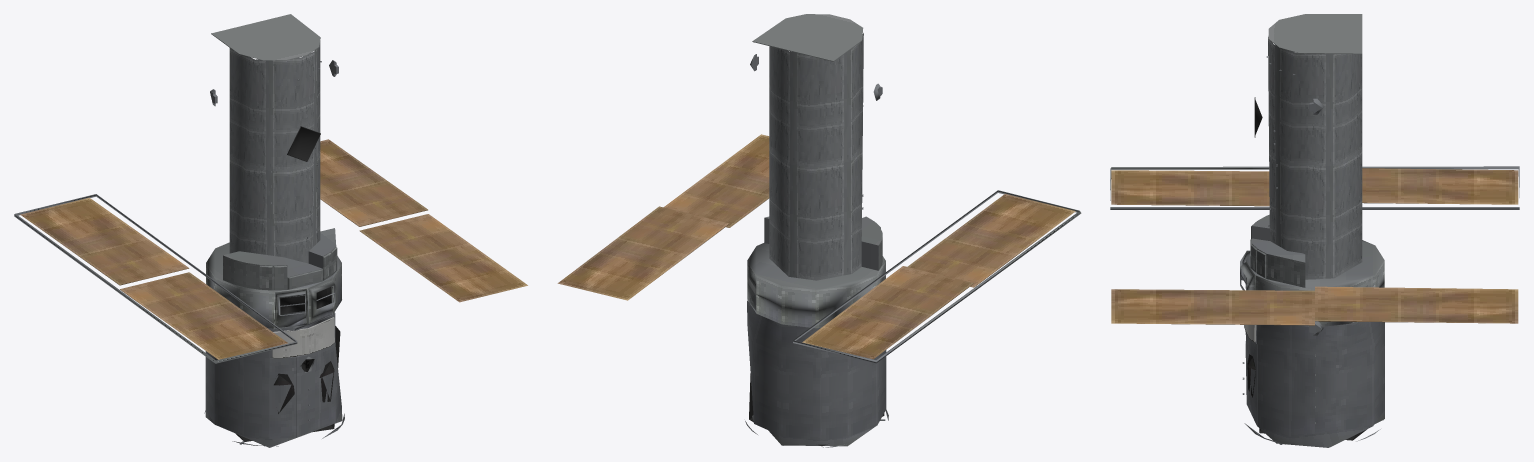
Rendered from hubble.glb.
The picture shows the model from 3 angles, left to right: view 1: azimuth 30°, elevation 25°; view 2: azimuth 150°, elevation 25°; view 3: azimuth 270°, elevation 25°; orthographic projection.
Visible parts, largest first — view 1: hst; view 2: hst; view 3: hst.
Boxes of the visible parts, left/top/right/bottom form: hst: left=14, top=14, right=527, bottom=447; hst: left=557, top=14, right=1081, bottom=447; hst: left=1110, top=14, right=1519, bottom=447.
Bounding box in the file's own units: 450 × 525 × 500.
Materials: 5 (5 with a texture image).
